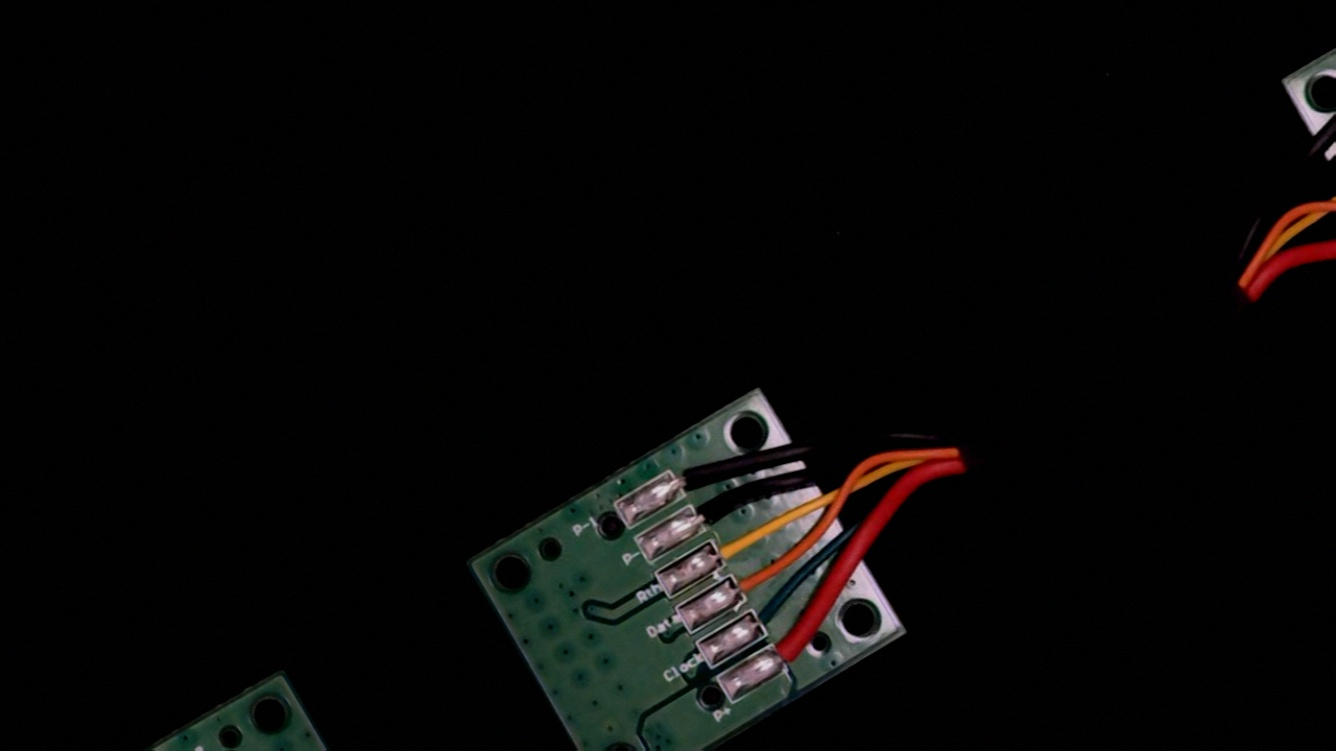Black: (673, 473, 760, 546)
Black1: (653, 448, 724, 509)
Green: (734, 581, 809, 647)
Orange: (717, 552, 788, 613)
Red: (756, 618, 828, 680)
Yellow: (696, 516, 768, 579)
